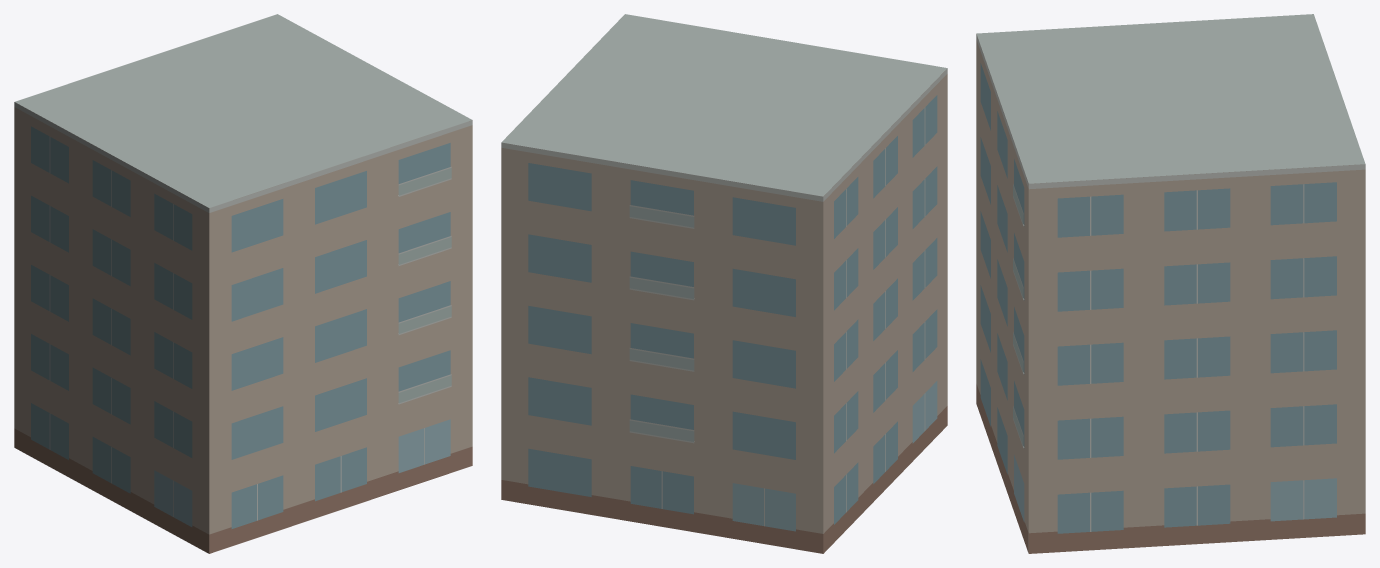
File: survey-upis-32577958.glb
The picture shows the model from 3 angles, left to right: view 1: azimuth 30°, elevation 25°; view 2: azimuth 150°, elevation 25°; view 3: azimuth 270°, elevation 25°; orthographic projection. The views are drawn at different scales.
Parts seen in each view (by area): view 1: survey-upis-32577958.tmp; view 2: survey-upis-32577958.tmp; view 3: survey-upis-32577958.tmp.
Part boxes in pixels (<box>): survey-upis-32577958.tmp: <box>14,14,472,553</box>; survey-upis-32577958.tmp: <box>501,14,947,553</box>; survey-upis-32577958.tmp: <box>976,14,1365,553</box>.
Bounding box in the file's own units: 16.34 × 16.6 × 15.83.
